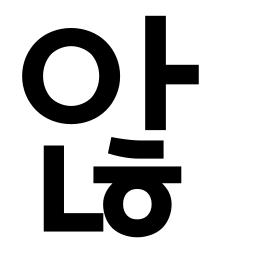Gaji: (131, 52, 184, 99)
